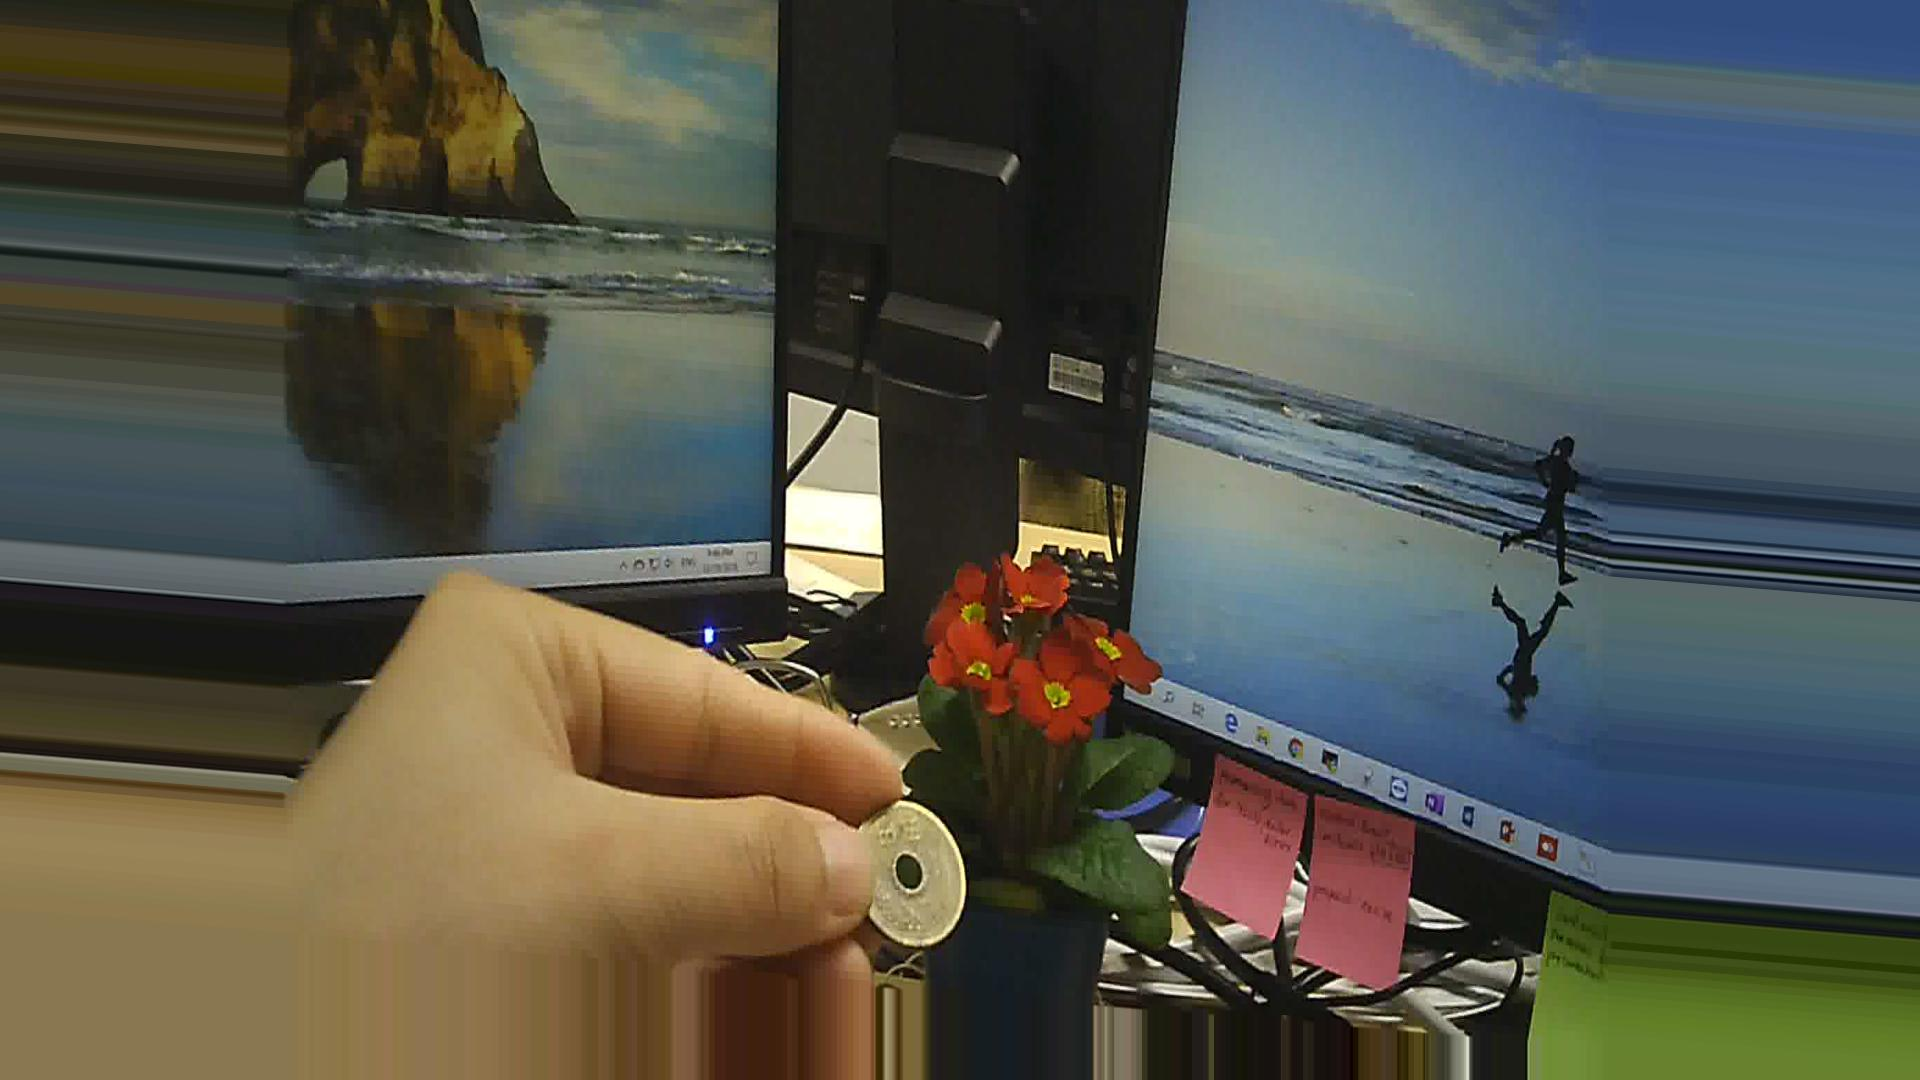5 Yen: (825, 793, 967, 951)
